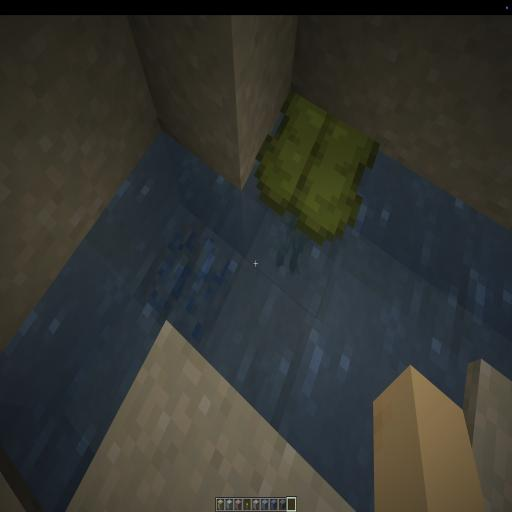lapis ore: (139, 200, 244, 346)
